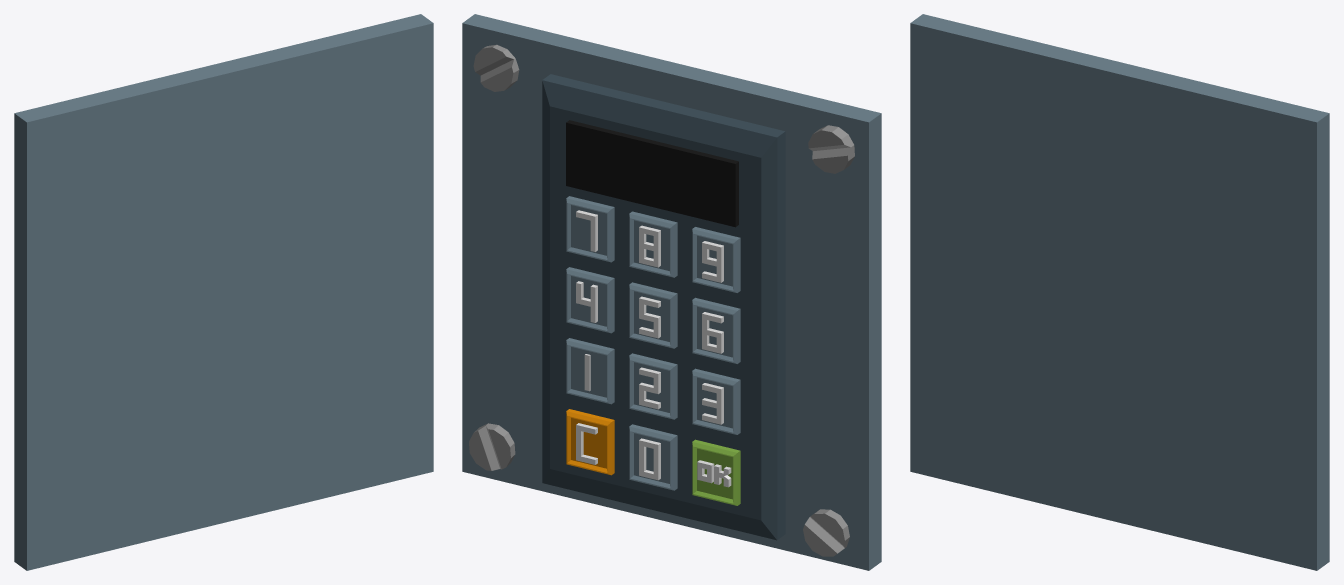
The model's file is Security Keypad.fbx.
3 renders of one model, left to right at view 1: azimuth 30°, elevation 25°; view 2: azimuth 150°, elevation 25°; view 3: azimuth 330°, elevation 25°, orthographic.
Parts seen in each view (by area): view 1: model1:Mesh; view 2: model1:Mesh; view 3: model1:Mesh.
Part boxes in pixels (x1=…): model1:Mesh: x1=14, y1=14, x2=433, y2=570; model1:Mesh: x1=462, y1=14, x2=881, y2=570; model1:Mesh: x1=910, y1=14, x2=1329, y2=570.
Size of the model in its own units: 1.68 by 1.77 by 0.22.
